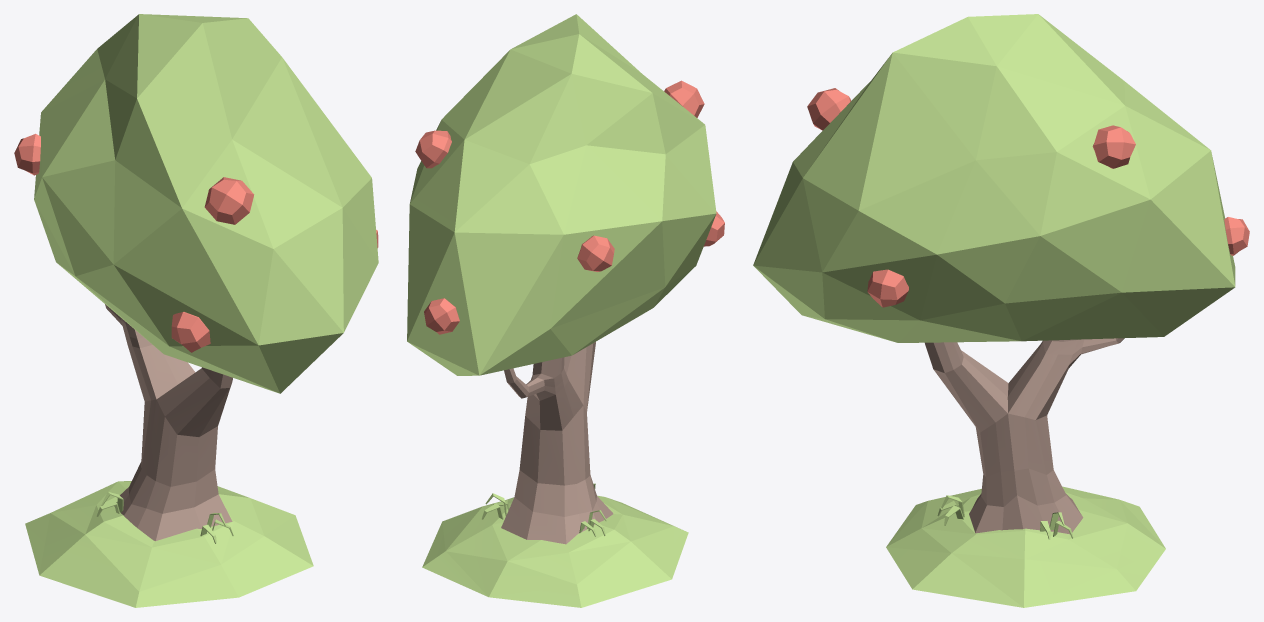
The model's file is AppleTreeGrass.gltf.
3 renders of one model, left to right at view 1: azimuth 30°, elevation 25°; view 2: azimuth 150°, elevation 25°; view 3: azimuth 270°, elevation 25°, orthographic. The views are drawn at different scales.
Parts seen in each view (by area): view 1: apple_tree_01_Cube.001; view 2: apple_tree_01_Cube.001; view 3: apple_tree_01_Cube.001.
Boxes of the visible parts, <box> form: apple_tree_01_Cube.001: <box>14,14,378,607</box>; apple_tree_01_Cube.001: <box>407,14,724,607</box>; apple_tree_01_Cube.001: <box>753,14,1249,607</box>.
Size of the model in its own units: 105 by 199 by 168.
